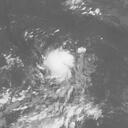cyclone: (41, 48, 76, 82)
